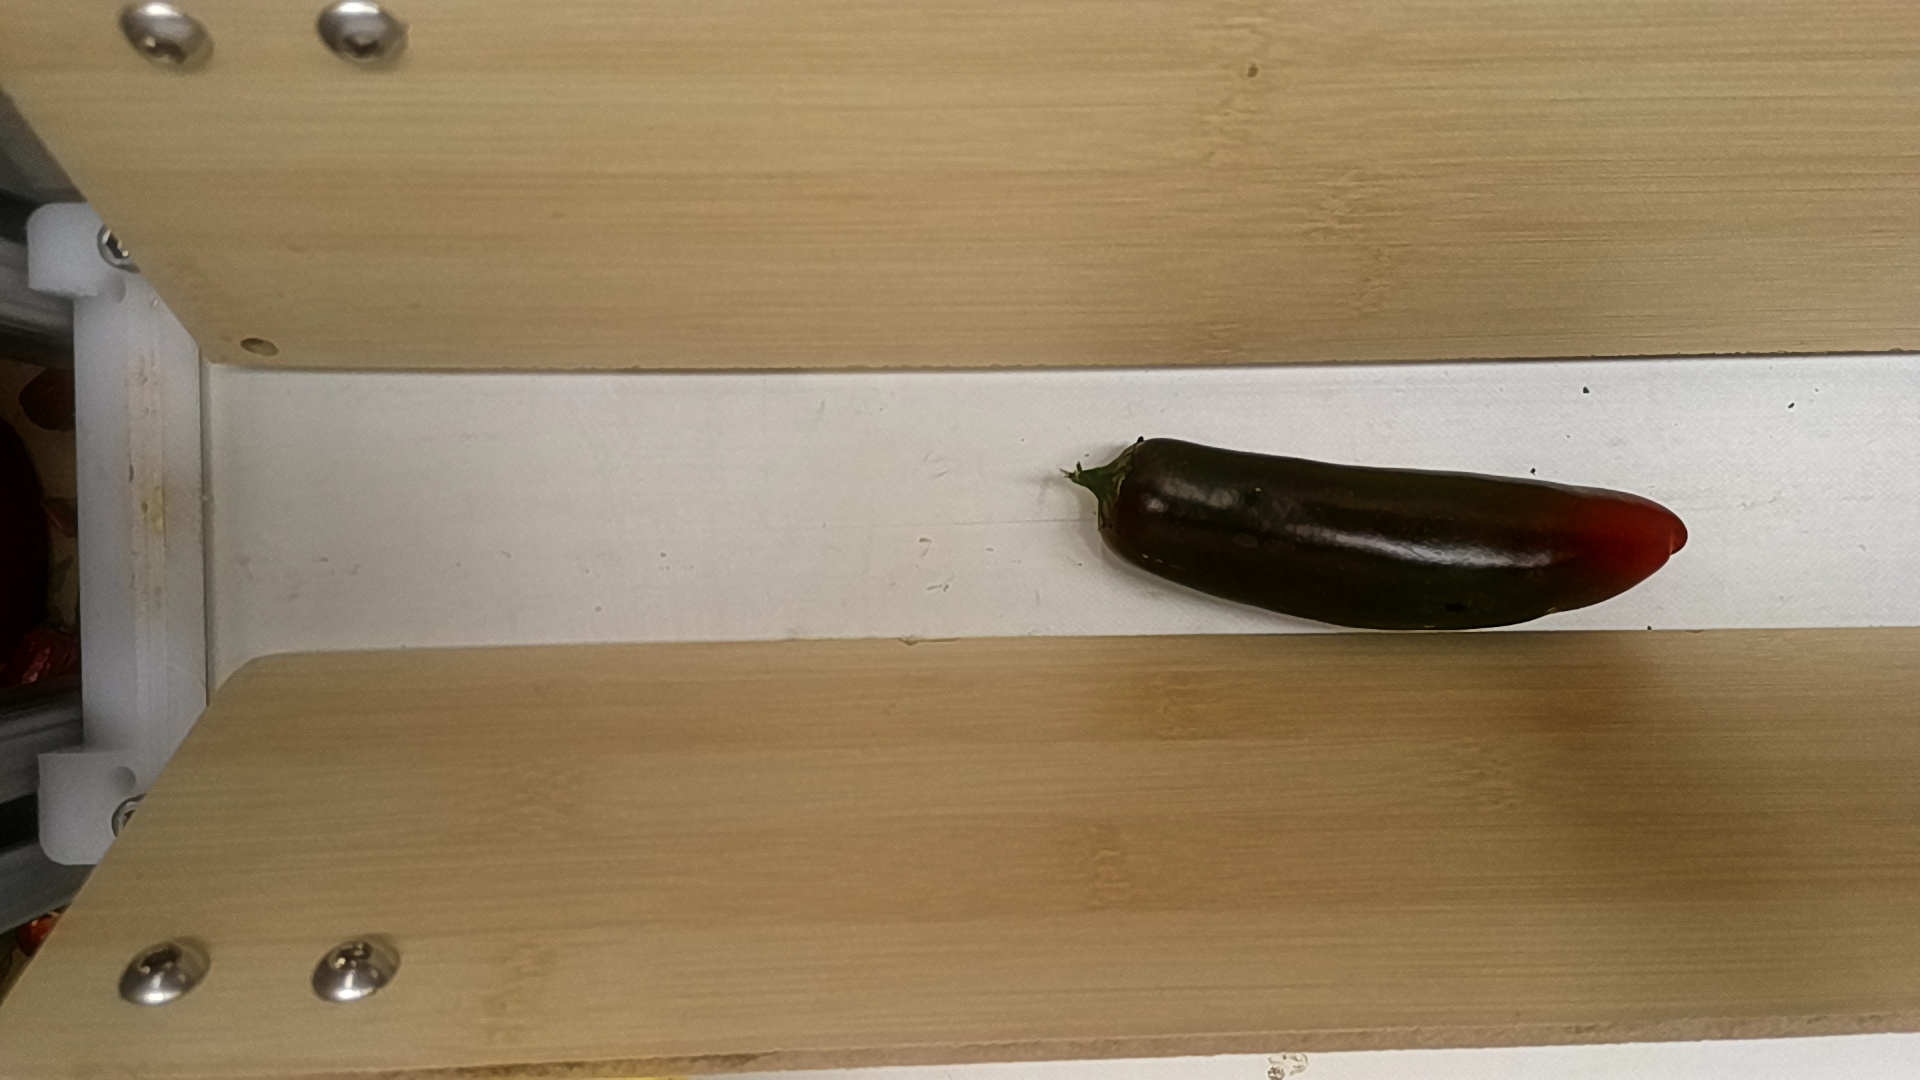Cut Point: (1083, 421, 1172, 570)
